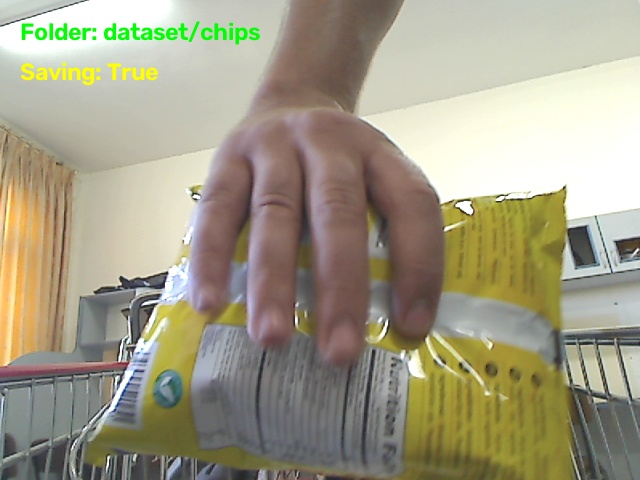chips: (87, 189, 572, 479)
